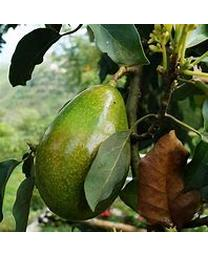avocado: (31, 78, 133, 224)
